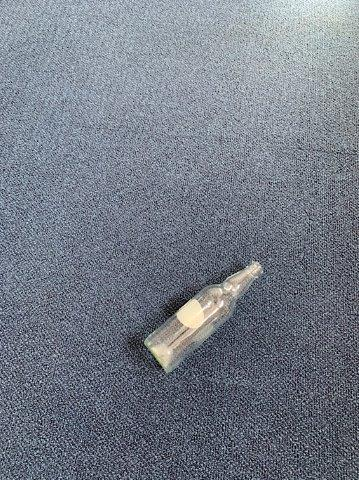botolkaca: (142, 261, 262, 373)
